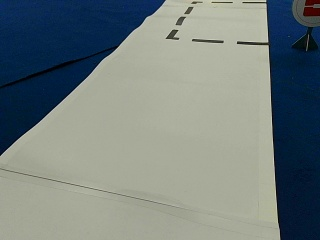company: (292, 0, 319, 25)
